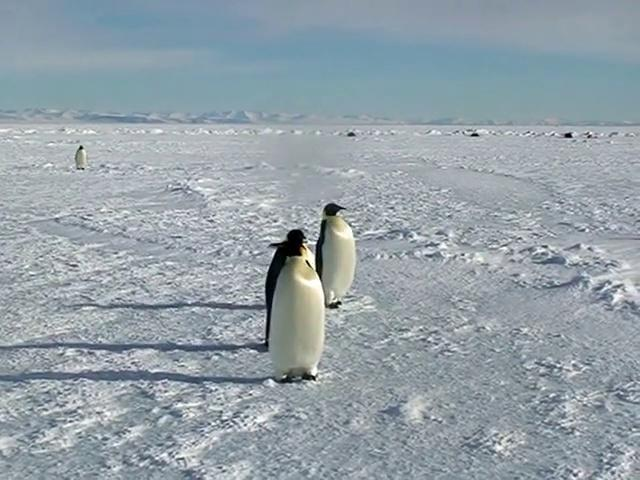animal: (317, 205, 357, 307)
